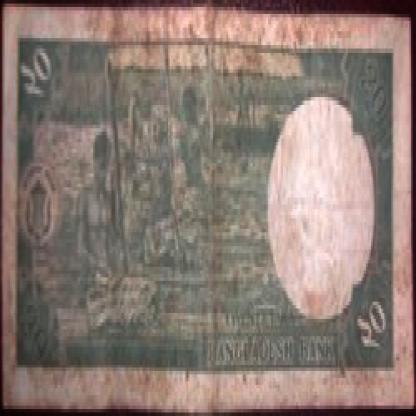Twenty: (17, 38, 75, 101), (356, 305, 391, 361)
